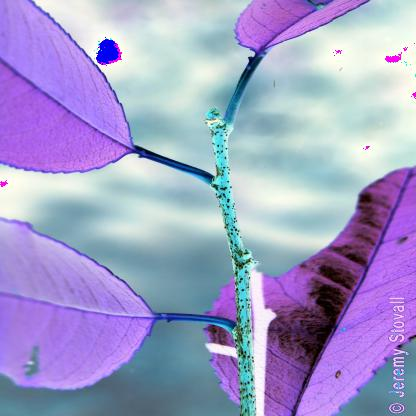cherry leaf: (188, 150, 411, 413), (6, 0, 168, 175)
